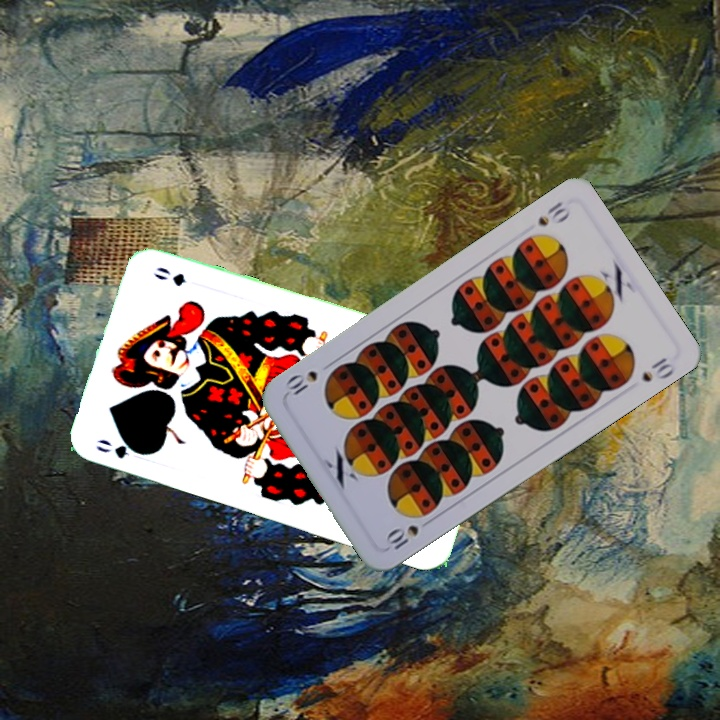GO: (92, 435, 151, 462)
S10: (381, 514, 436, 553), (533, 197, 574, 229)
